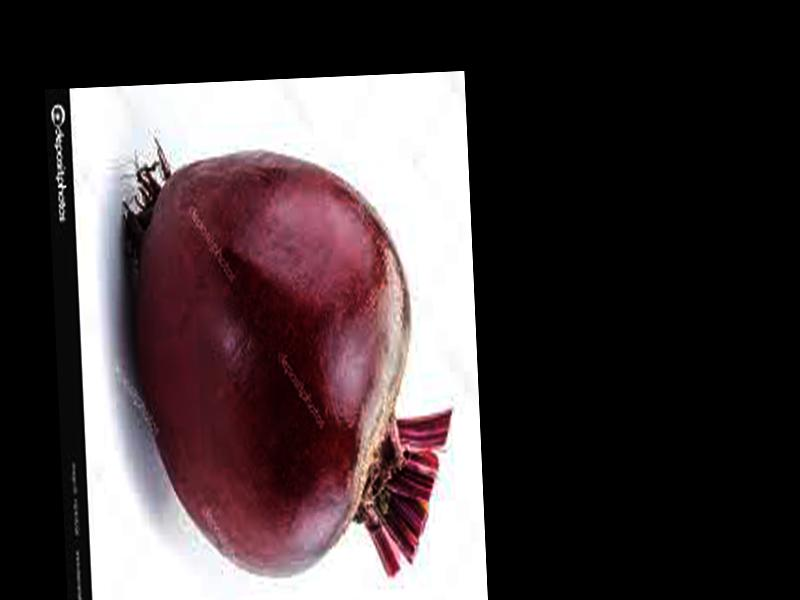Beet: (125, 144, 454, 584)
